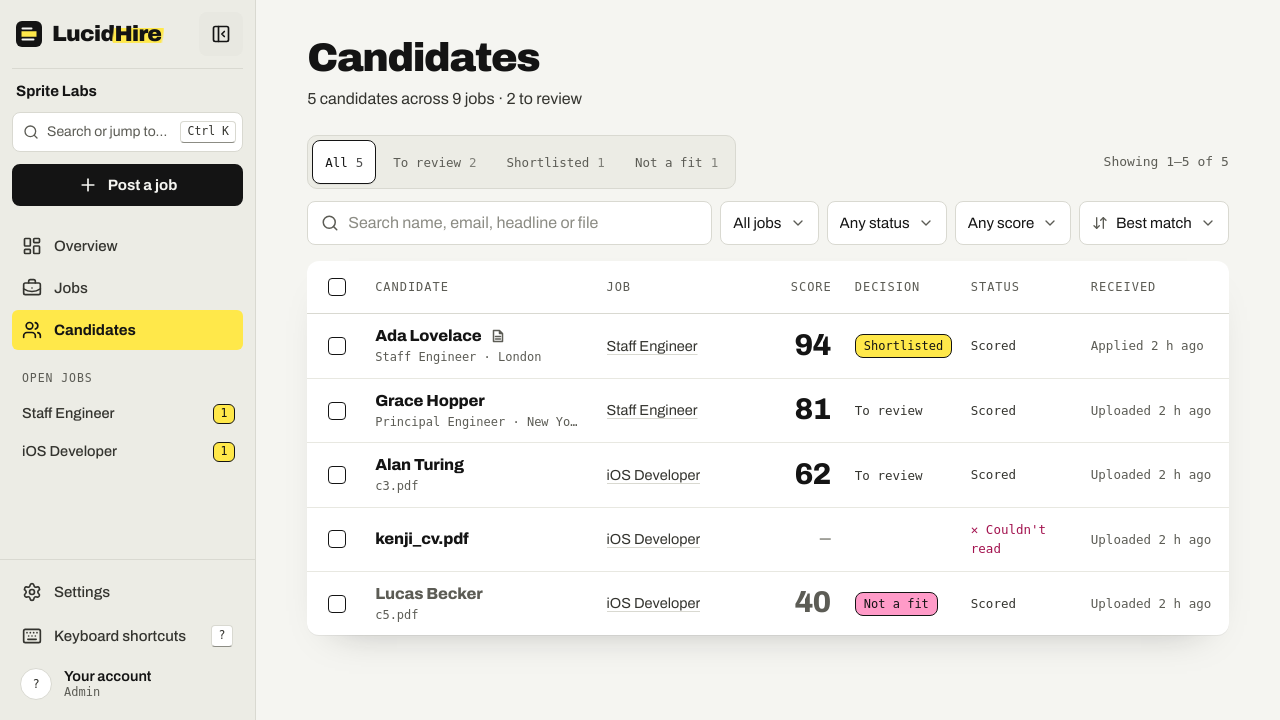
Test: the candidates page › filters by job from the Job picker, searching the jobs as you type
Expected: the heading "Candidates" is shown, 307,36 -> 539,79
Expected: the table named "Candidates across your jobs" is shown, 307,261 -> 1229,635
Click the button named "Job: All jobs": (769, 223) 720,201 -> 818,245
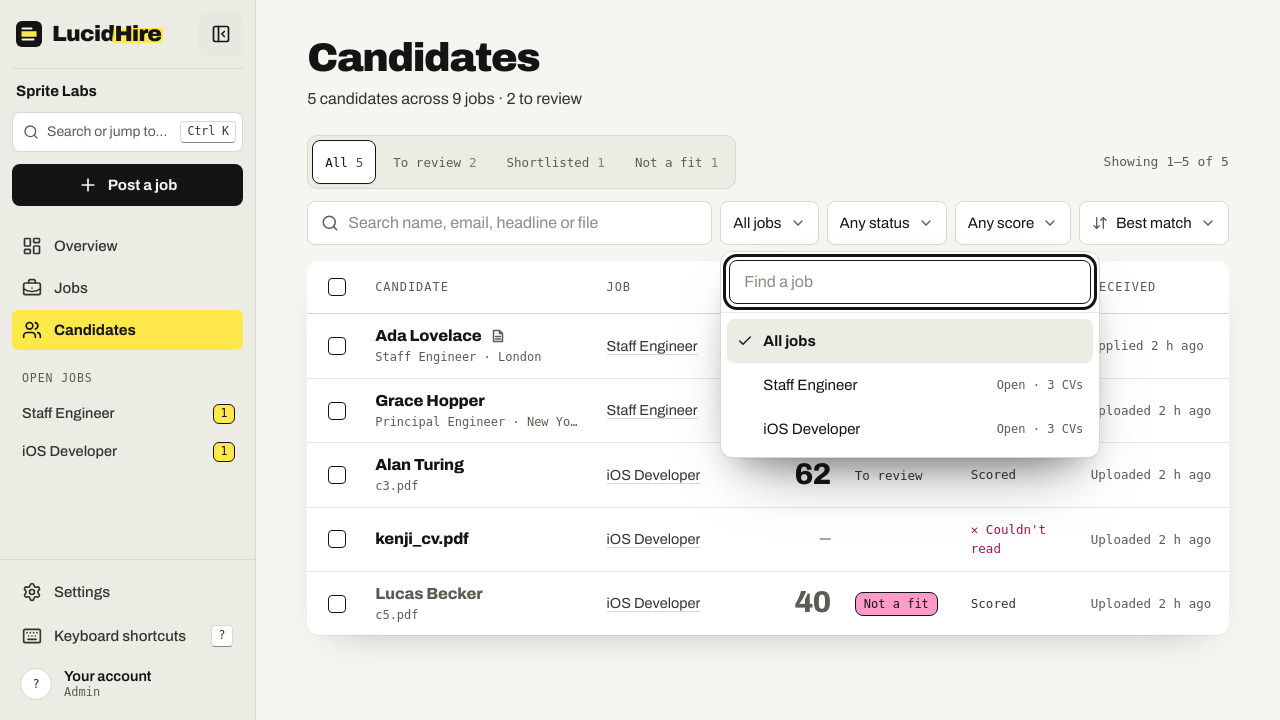
Click the option "iOS Developer Open · 3 CVs": (812, 429) 763,421 -> 1083,437
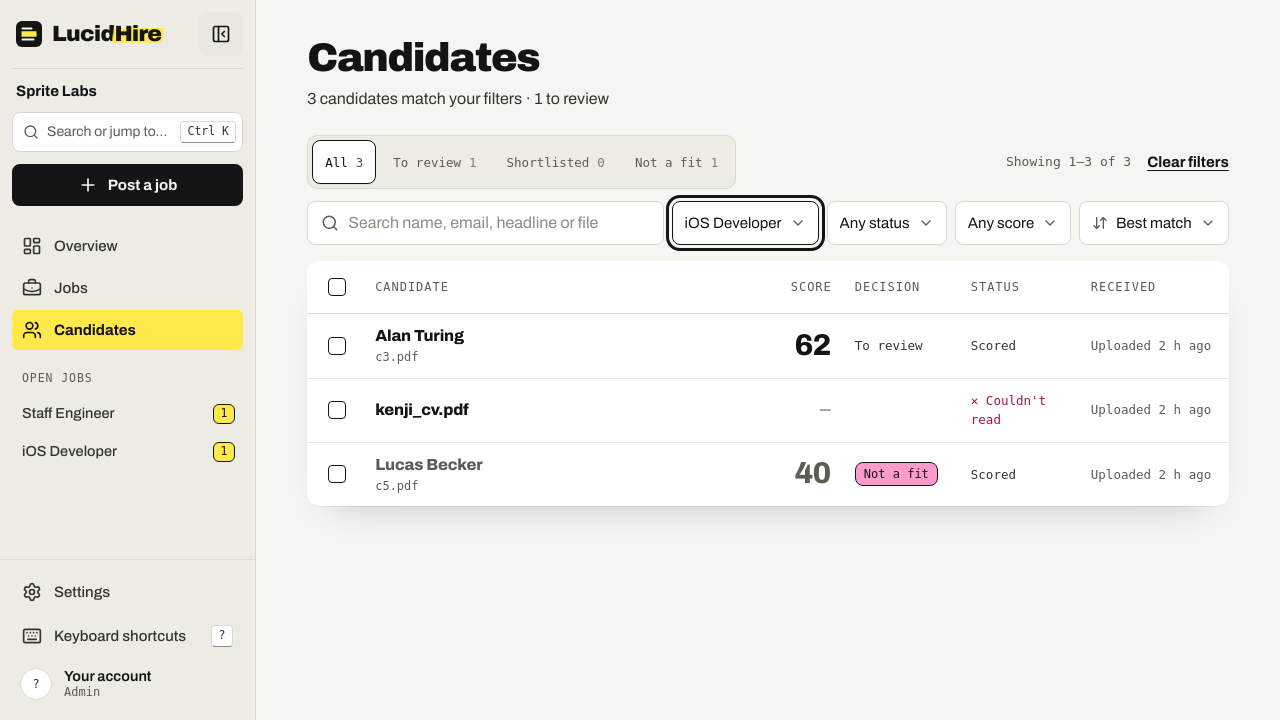
Expected: the button named "Job: iOS Developer" is shown, 672,201 -> 818,245
Expected: the text "3 candidates match your filters · 1 to review" is shown, 307,90 -> 609,107
